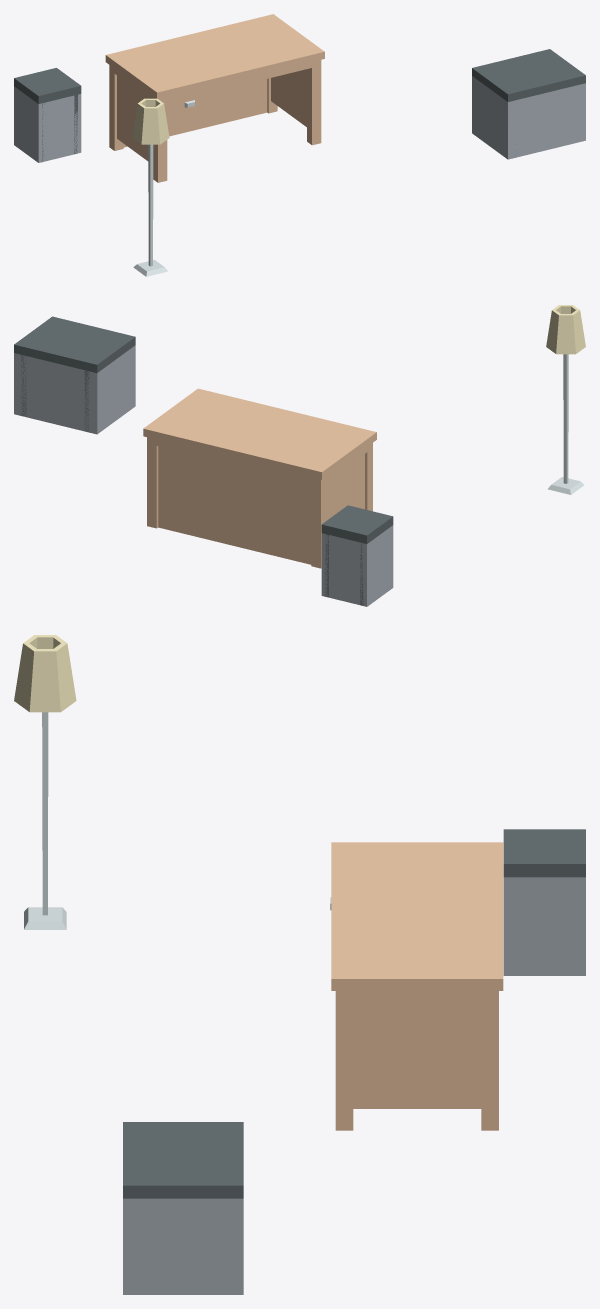
The picture shows the model from 3 angles, top to bottom: view 1: azimuth 30°, elevation 25°; view 2: azimuth 150°, elevation 25°; view 3: azimuth 270°, elevation 25°; orthographic projection. The views are drawn at different scales.
Parts seen in each view (by area): view 1: desk_blue__desk(Clone), crate_red__crate_red shell, bin_gray__bin_gray shell, crate_red__crate_red lid, lamp_white__lampRoundFloor(Clone), bin_gray__bin_gray lid, desk_blue__drawer; view 2: desk_blue__desk(Clone), crate_red__crate_red shell, bin_gray__bin_gray shell, crate_red__crate_red lid, lamp_white__lampRoundFloor(Clone), bin_gray__bin_gray lid; view 3: desk_blue__desk(Clone), crate_red__crate_red shell, crate_red__crate_red lid, bin_gray__bin_gray shell, lamp_white__lampRoundFloor(Clone), bin_gray__bin_gray lid.
Boxes of the visible parts, box(x1,y1,x2,y2) form: desk_blue__desk(Clone): box(105, 14, 324, 182); crate_red__crate_red shell: box(472, 76, 585, 159); bin_gray__bin_gray shell: box(14, 86, 81, 162); crate_red__crate_red lid: box(472, 49, 585, 101); lamp_white__lampRoundFloor(Clone): box(132, 98, 169, 276); bin_gray__bin_gray lid: box(14, 68, 81, 103); desk_blue__drawer: box(167, 92, 212, 114); desk_blue__desk(Clone): box(143, 388, 376, 568); crate_red__crate_red shell: box(14, 345, 135, 434); bin_gray__bin_gray shell: box(321, 525, 393, 606); crate_red__crate_red lid: box(14, 316, 135, 372); lamp_white__lampRoundFloor(Clone): box(546, 305, 585, 494); bin_gray__bin_gray lid: box(321, 505, 393, 543); desk_blue__desk(Clone): box(331, 842, 503, 1130); crate_red__crate_red shell: box(123, 1198, 243, 1294); crate_red__crate_red lid: box(123, 1122, 243, 1198); bin_gray__bin_gray shell: box(503, 877, 585, 975); lamp_white__lampRoundFloor(Clone): box(14, 635, 76, 929); bin_gray__bin_gray lid: box(503, 829, 585, 877).
Bounding box in the file's own units: 3.63 × 1.22 × 2.28.
